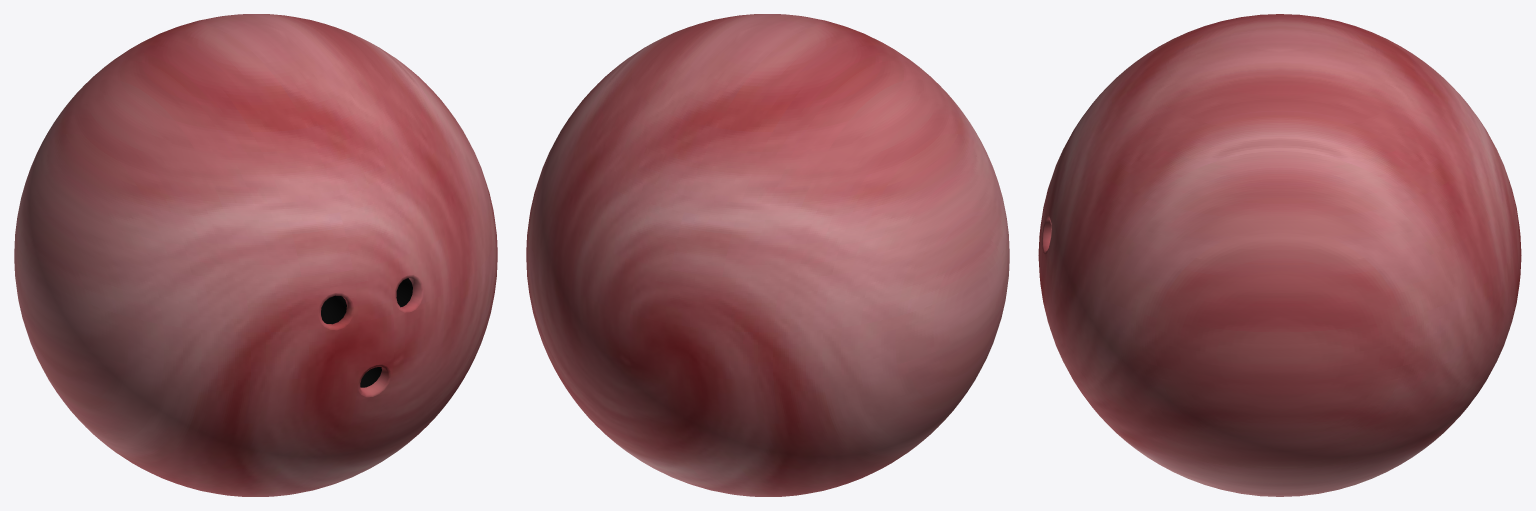
Rendered from Fbx_Bowling_BowlingBall.fbx.
3 renders of one model, left to right at view 1: azimuth 30°, elevation 25°; view 2: azimuth 150°, elevation 25°; view 3: azimuth 270°, elevation 25°, orthographic.
Visible parts, largest first — view 1: Bowling Ball; view 2: Bowling Ball; view 3: Bowling Ball.
Boxes of the visible parts, x1,y1,x2,y2 form: Bowling Ball: [14, 14, 497, 496]; Bowling Ball: [526, 14, 1009, 496]; Bowling Ball: [1038, 14, 1521, 496].
Size of the model in its own units: 1 by 1 by 1.
Materials: 1 (1 with a texture image).
